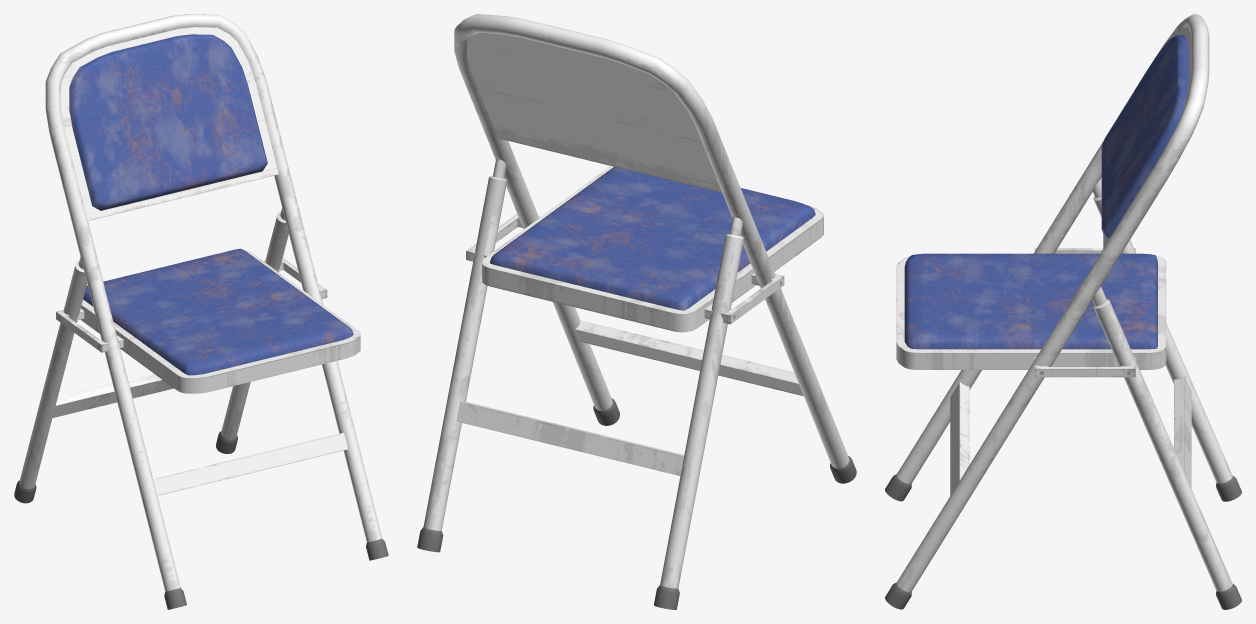
The model's file is chair.glb.
3 views of the same model, side by side, from view 1: azimuth 30°, elevation 25°; view 2: azimuth 150°, elevation 25°; view 3: azimuth 270°, elevation 25° (orthographic). The views are drawn at different scales.
Parts seen in each view (by area): view 1: chair; view 2: chair; view 3: chair.
Part boxes in pixels (x1,y1,x2,y2): chair: (14,14,388,609); chair: (417,14,856,609); chair: (885,14,1241,609).
Bounding box in the file's own units: 2.89 × 5.63 × 3.6.
1 material, 1 textured.
